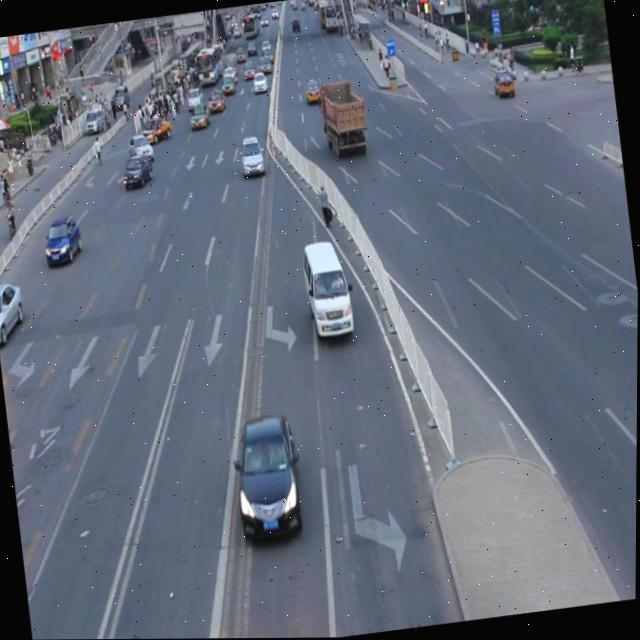car: (228, 411, 305, 543), (41, 214, 84, 266), (0, 277, 27, 346), (119, 152, 154, 189), (237, 134, 265, 177)
truck: (299, 237, 355, 340)
